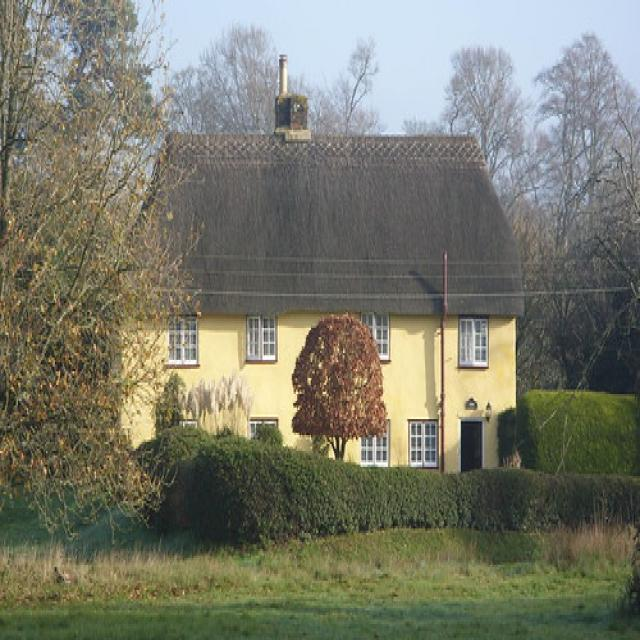Normal_building: (97, 51, 529, 500)
